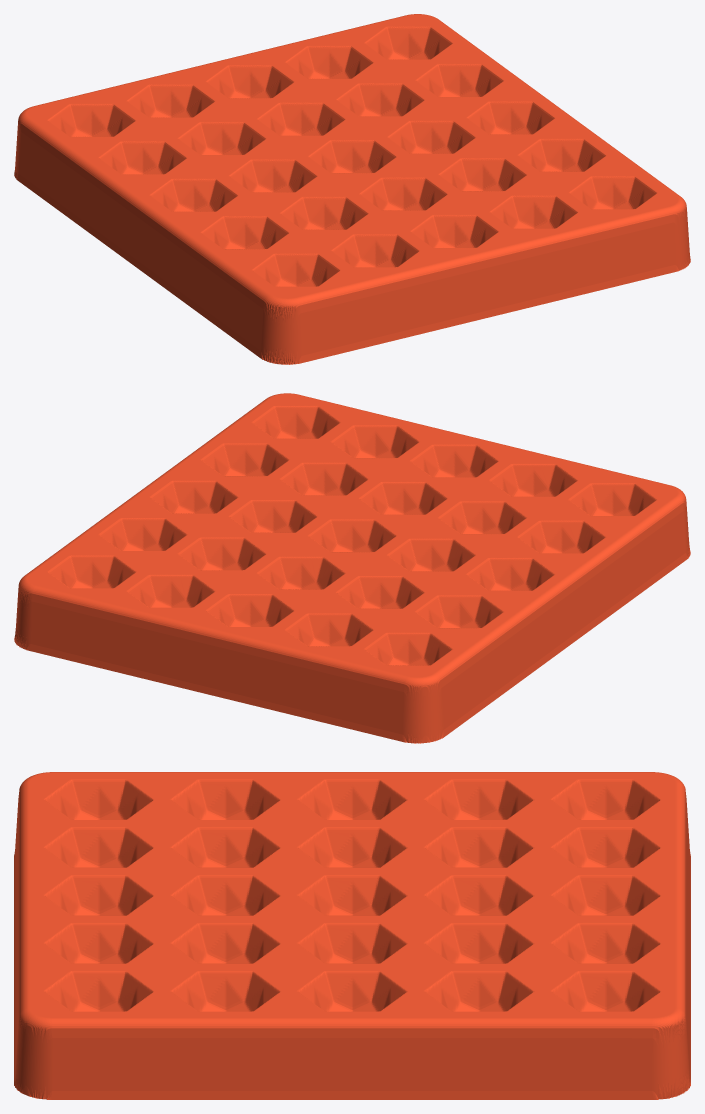
Rendered from mold.glb.
The picture shows the model from 3 angles, top to bottom: view 1: azimuth 30°, elevation 25°; view 2: azimuth 150°, elevation 25°; view 3: azimuth 270°, elevation 25°; orthographic projection. The views are drawn at different scales.
Parts seen in each view (by area): view 1: geometry_0; view 2: geometry_0; view 3: geometry_0.
Boxes of the visible parts, x1,y1,x2,y2 form: geometry_0: (14, 14, 690, 364); geometry_0: (14, 393, 690, 743); geometry_0: (14, 772, 690, 1099).
Size of the model in its own units: 0.1428 by 0.0195 by 0.1584.
